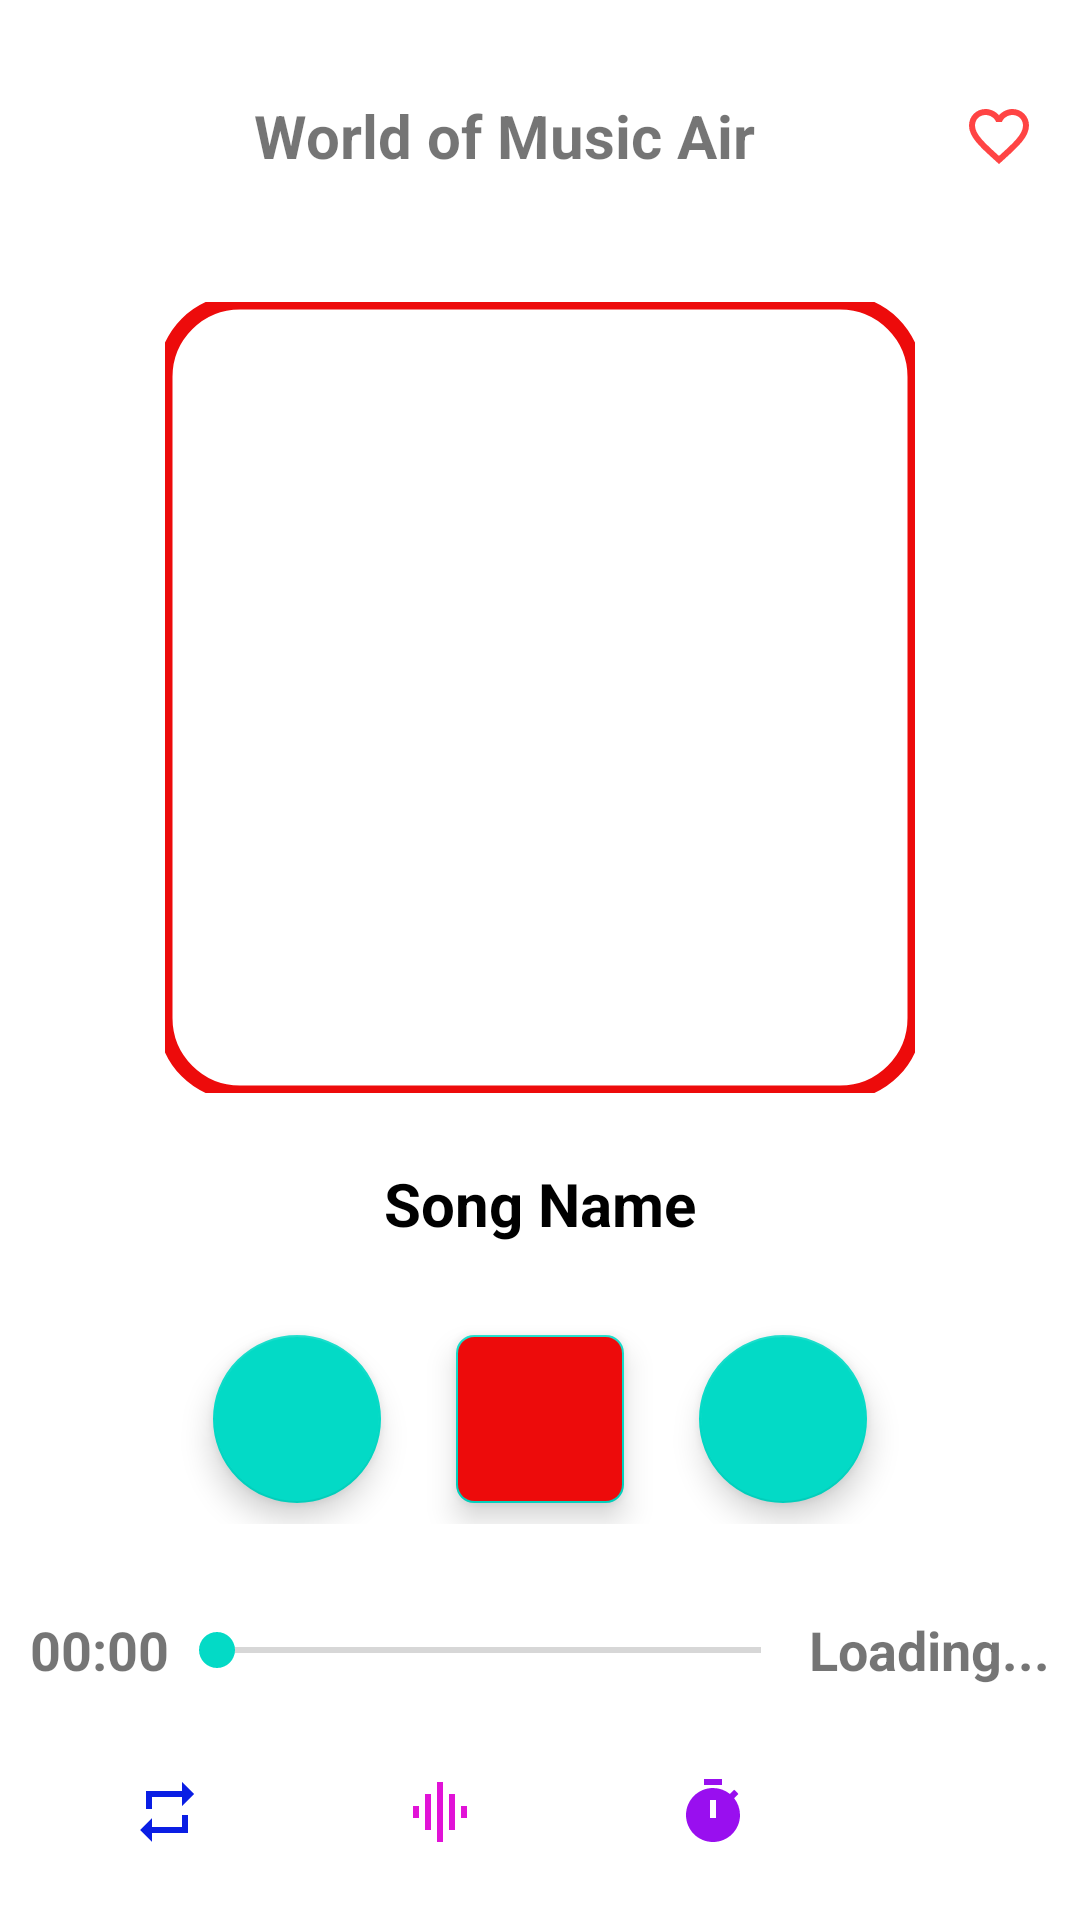

Icon bounding boxes for this 1080*1920 phone screenshot, format detection(x1, y1, x2, y2):
Equalizer: detection(413, 1782, 467, 1842)
Favourites: detection(969, 109, 1029, 164)
Repeat: detection(140, 1782, 194, 1842)
Timer: detection(686, 1779, 740, 1842)
